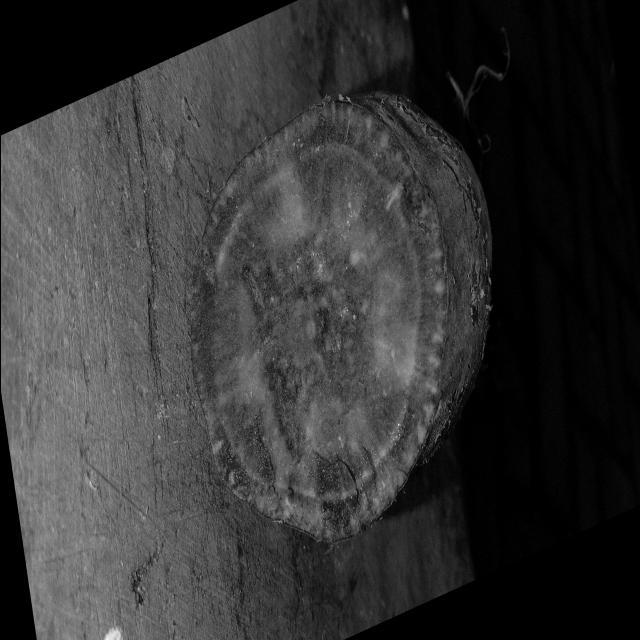Sick Sweet Potato_Tuber Rot: (190, 102, 446, 540)
